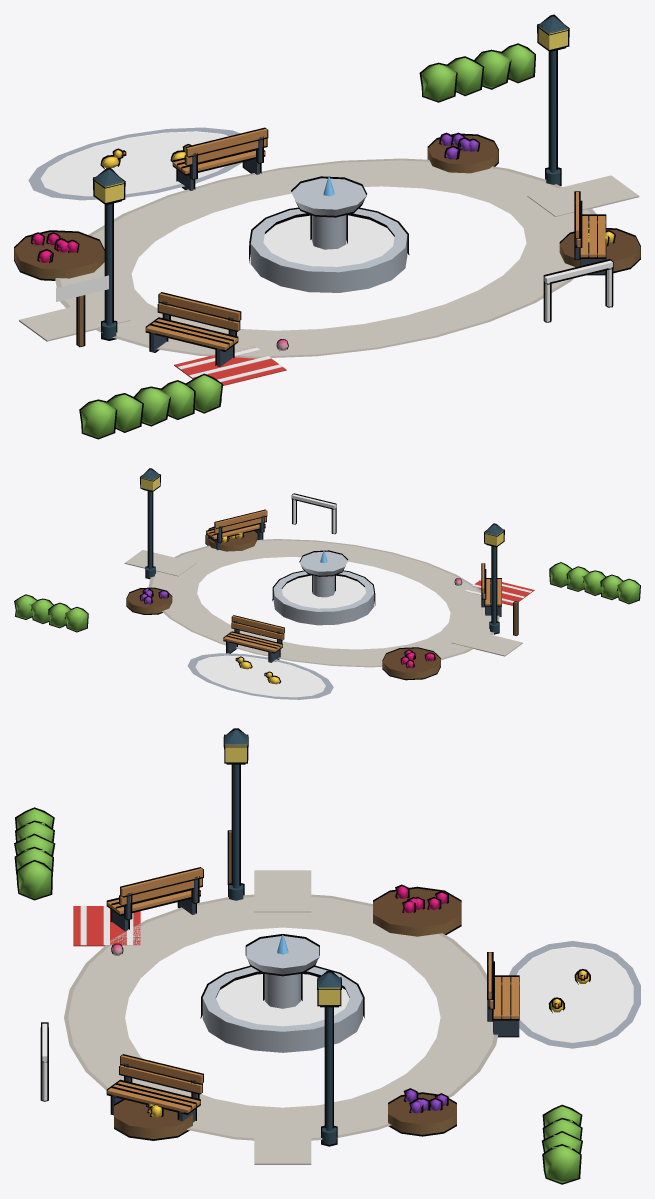
The model's file is BR_Park.glb.
The picture shows the model from 3 angles, top to bottom: view 1: azimuth 30°, elevation 25°; view 2: azimuth 150°, elevation 25°; view 3: azimuth 270°, elevation 25°; orthographic projection. The views are drawn at different scales.
Visible parts, largest first — view 1: BR_Park_Mesh, BR_Park_Outline, Wasser; view 2: BR_Park_Mesh, BR_Park_Outline, Wasser; view 3: BR_Park_Mesh, BR_Park_Outline, Wasser.
Part boxes in pixels (x1=…): BR_Park_Mesh: x1=14, y1=16, x2=640, y2=437; BR_Park_Outline: x1=14, y1=14, x2=640, y2=439; Wasser: x1=263, y1=177, x2=394, y2=266; BR_Park_Mesh: x1=15, y1=469, x2=639, y2=699; BR_Park_Outline: x1=14, y1=468, x2=640, y2=683; Wasser: x1=282, y1=551, x2=365, y2=608; BR_Park_Mesh: x1=15, y1=729, x2=640, y2=1182; BR_Park_Outline: x1=14, y1=728, x2=590, y2=1184; Wasser: x1=216, y1=935, x2=349, y2=1026.
Size of the model in its own units: 16.14 by 3.7 by 12.12.
